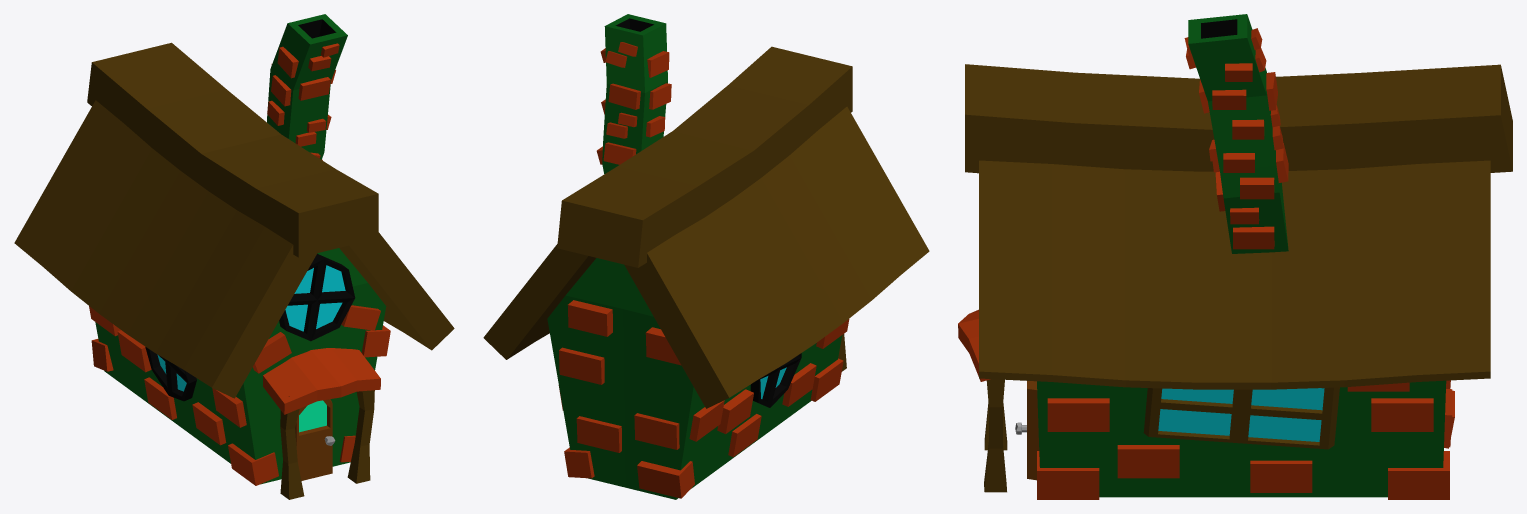
The model's file is CasinhaFofaVerde.fbx.
3 views of the same model, side by side, from view 1: azimuth 30°, elevation 25°; view 2: azimuth 150°, elevation 25°; view 3: azimuth 270°, elevation 25° (orthographic). The views are drawn at different scales.
Visible parts, largest first — view 1: CasinhafofaVerde; view 2: CasinhafofaVerde; view 3: CasinhafofaVerde.
Part boxes in pixels (x1,y1,x2,y2): CasinhafofaVerde: (14,14,454,499); CasinhafofaVerde: (483,14,929,499); CasinhafofaVerde: (958,14,1512,499).
Bounding box in the file's own units: 614 × 915 × 938.
